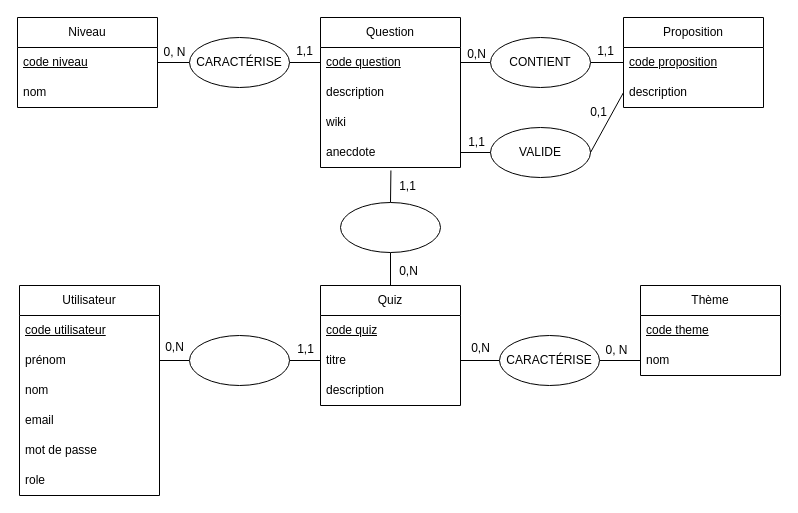
This 798x513 diagram has some shape labels left out. The shapes that lost their labels are listed below. From the top down, each one's centre as x and y in pixels, then its label:
pixel 390 227: POSSÈDE
pixel 239 360: CRÉE
